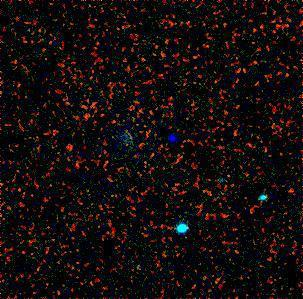star: (158, 123, 188, 153)
